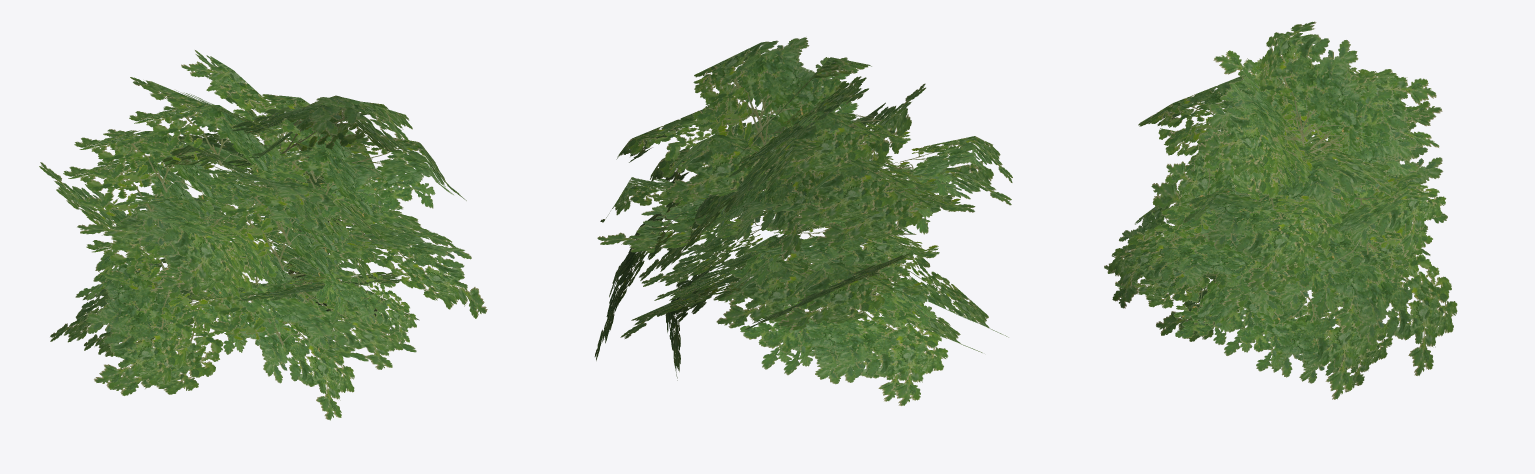
Rendered from bush.FBX.
The picture shows the model from 3 angles, left to right: view 1: azimuth 30°, elevation 25°; view 2: azimuth 150°, elevation 25°; view 3: azimuth 270°, elevation 25°; orthographic projection. The views are drawn at different scales.
Visible parts, largest first — view 1: Plane1715; view 2: Plane1715; view 3: Plane1715.
Boxes of the visible parts, left/top/right/bottom form: Plane1715: left=39, top=50, right=487, bottom=420; Plane1715: left=594, top=37, right=1012, bottom=405; Plane1715: left=1104, top=21, right=1457, bottom=399.
Bounding box in the file's own units: 22.42 × 17.74 × 21.46.
Materials: 1 (1 with a texture image).
